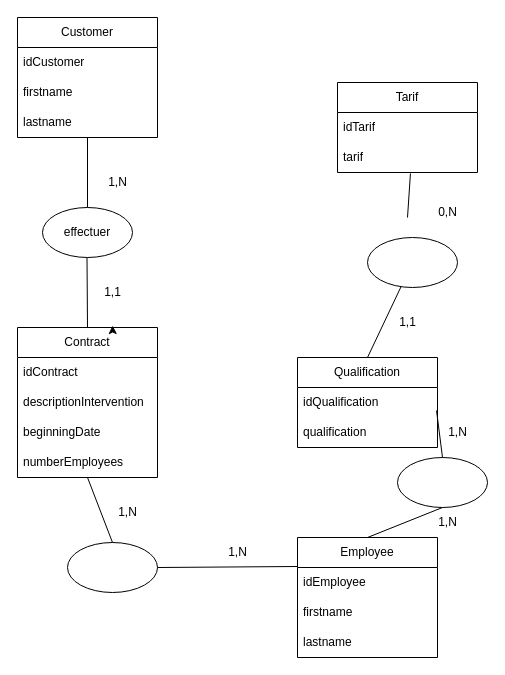
Some shapes in this 505 by 675 pixel diagram are drawn without their labels. The centre of each missing label's shape, as x and y in pixels:
"Correspond" goes at [412,262].
"executé" goes at [112,567].
"possède" goes at [442,482].
